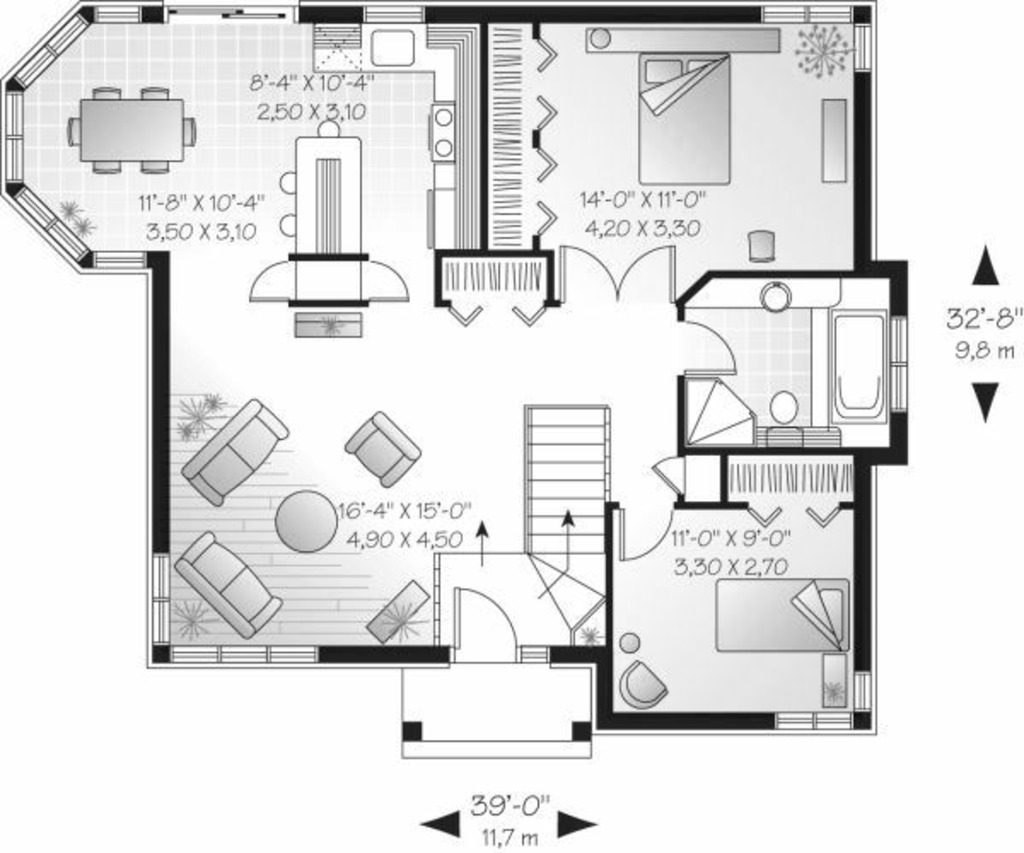bed: (631, 53, 733, 191), (711, 573, 864, 655)
dining_table: (64, 82, 207, 177)
door: (547, 237, 681, 315), (437, 581, 515, 670), (673, 311, 745, 376), (610, 499, 678, 564), (361, 259, 420, 303), (248, 253, 294, 301), (645, 447, 686, 493)
kitchen_bar: (278, 109, 368, 260)
large_sink: (758, 385, 820, 449)
large_sofa: (170, 524, 295, 649), (180, 401, 307, 509)
sink: (363, 24, 429, 65)
small_sink: (740, 276, 803, 315)
small_sofa: (340, 406, 430, 495)
stairs: (520, 397, 614, 637)
tub: (818, 298, 891, 427)
window: (2, 178, 155, 284), (16, 1, 144, 87), (161, 640, 328, 677), (143, 549, 177, 644), (777, 698, 876, 730), (2, 90, 35, 185), (753, 1, 857, 30), (845, 26, 889, 86), (886, 314, 907, 406), (362, 3, 421, 19)
